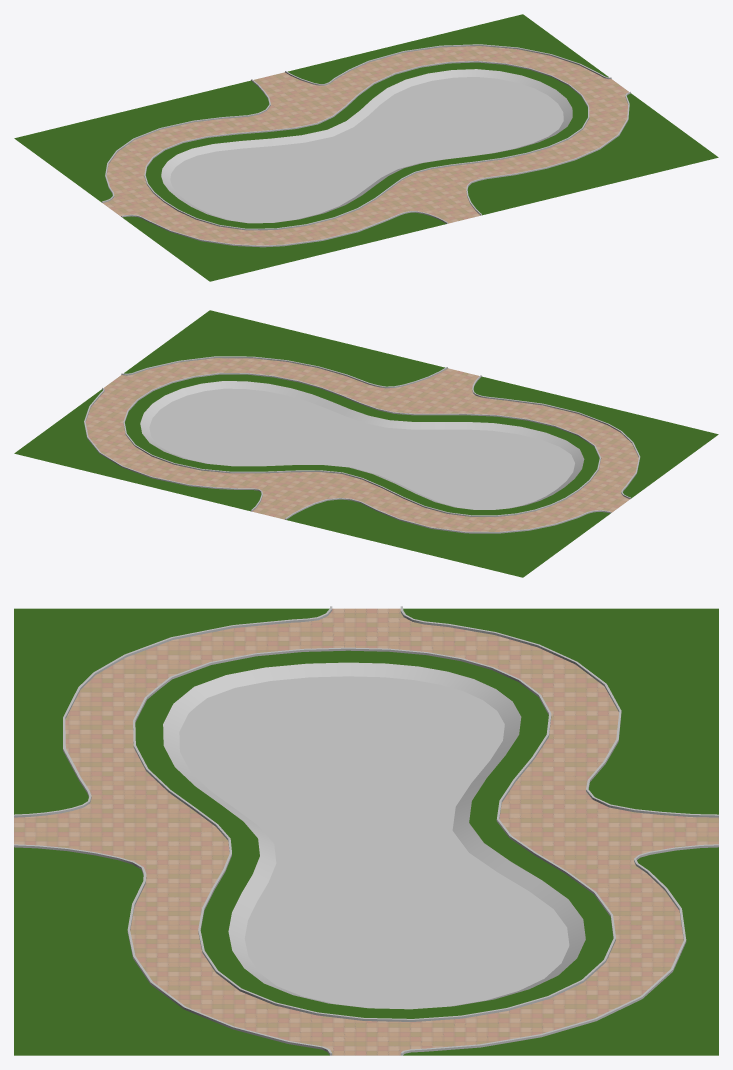
File: Park_Lake_01.fbx
3 renders of one model, top to bottom at view 1: azimuth 30°, elevation 25°; view 2: azimuth 150°, elevation 25°; view 3: azimuth 270°, elevation 25°, orthographic. The views are drawn at different scales.
Visible parts, largest first — view 1: Park_Lake_01; view 2: Park_Lake_01; view 3: Park_Lake_01.
Boxes of the visible parts, left/top/right/bottom form: Park_Lake_01: left=14, top=14, right=718, bottom=281; Park_Lake_01: left=14, top=310, right=718, bottom=577; Park_Lake_01: left=14, top=606, right=718, bottom=1055.
Bounding box in the file's own units: 9000 × 6000 × 151.
